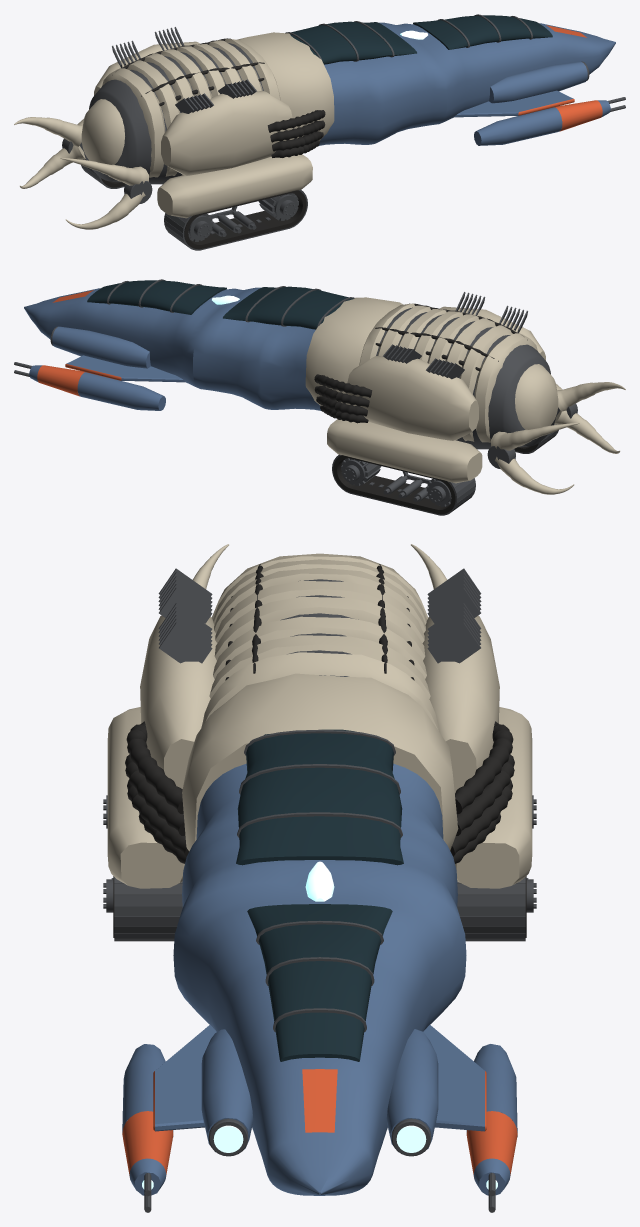
Rendered from helix_blueprint_LOD1.glb.
3 views of the same model, one above another, from view 1: azimuth 30°, elevation 25°; view 2: azimuth 150°, elevation 25°; view 3: azimuth 270°, elevation 25° (orthographic). The views are drawn at different scales.
Visible parts, largest first — view 1: Body_Hull.001, Body_Shoulder_-1.001, Body_Fender_-1.001, Body_Collar.001, Body_Hull.001_m2, Glass_CanopyAft.001, Glass_CanopyFwd.001, Detail_Hardware, Body_Nacelle_-1.001, Body_Maw.001, Body_Pod_-1.001, Prop_Track_Belt_-1.001 (+24 smaller); view 2: Body_Hull.001, Body_Shoulder_+1.001, Body_Fender_+1.001, Body_Collar.001, Body_Hull.001_m2, Glass_CanopyAft.001, Glass_CanopyFwd.001, Detail_Hardware, Body_Nacelle_+1.001, Body_Maw.001, Body_Pod_+1.001, Prop_Track_Belt_+1.001 (+24 smaller); view 3: Body_Hull.001, Glass_CanopyAft.001, Body_Collar.001, Glass_CanopyFwd.001, Detail_Hardware, Body_Shoulder_+1.001, Body_Shoulder_-1.001, Body_Fender_+1.001, Body_Fender_-1.001, Body_Plate_7.001, Body_Wing_+1.001, Body_Wing_-1.001 (+23 smaller).
Part boxes in pixels (x1=…): Body_Hull.001: x1=319, y1=22, x2=615, y2=145; Body_Shoulder_-1.001: x1=161, y1=91, x2=292, y2=175; Body_Fender_-1.001: x1=157, y1=154, x2=312, y2=218; Body_Collar.001: x1=237, y1=32, x2=334, y2=140; Body_Hull.001_m2: x1=84, y1=43, x2=263, y2=184; Glass_CanopyAft.001: x1=290, y1=21, x2=416, y2=64; Glass_CanopyFwd.001: x1=413, y1=15, x2=552, y2=49; Detail_Hardware: x1=62, y1=27, x2=625, y2=203; Body_Nacelle_-1.001: x1=489, y1=61, x2=587, y2=103; Body_Maw.001: x1=81, y1=99, x2=124, y2=173; Body_Pod_-1.001: x1=474, y1=100, x2=610, y2=145; Prop_Track_Belt_-1.001: x1=184, y1=190, x2=306, y2=249; Body_Hull.001: x1=24, y1=287, x2=321, y2=410; Body_Shoulder_+1.001: x1=347, y1=356, x2=478, y2=440; Body_Fender_+1.001: x1=327, y1=419, x2=482, y2=483; Body_Collar.001: x1=305, y1=297, x2=402, y2=405; Body_Hull.001_m2: x1=376, y1=307, x2=555, y2=449; Glass_CanopyAft.001: x1=223, y1=286, x2=353, y2=329; Glass_CanopyFwd.001: x1=87, y1=280, x2=226, y2=314; Detail_Hardware: x1=14, y1=292, x2=577, y2=468; Body_Nacelle_+1.001: x1=52, y1=326, x2=150, y2=368; Body_Maw.001: x1=515, y1=364, x2=558, y2=438; Body_Pod_+1.001: x1=29, y1=365, x2=165, y2=410; Prop_Track_Belt_+1.001: x1=333, y1=455, x2=455, y2=514; Body_Hull.001: x1=173, y1=763, x2=466, y2=1195; Glass_CanopyAft.001: x1=236, y1=729, x2=403, y2=865; Body_Collar.001: x1=182, y1=673, x2=458, y2=851; Glass_CanopyFwd.001: x1=247, y1=904, x2=392, y2=1061; Detail_Hardware: x1=144, y1=568, x2=495, y2=1212; Body_Shoulder_+1.001: x1=422, y1=615, x2=499, y2=793; Body_Shoulder_-1.001: x1=140, y1=615, x2=217, y2=788; Body_Fender_+1.001: x1=455, y1=707, x2=532, y2=888; Body_Fender_-1.001: x1=107, y1=707, x2=184, y2=888; Body_Plate_7.001: x1=201, y1=652, x2=439, y2=731; Body_Wing_+1.001: x1=423, y1=1025, x2=484, y2=1131; Body_Wing_-1.001: x1=155, y1=1025, x2=216, y2=1131.
Bounding box in the file's own units: 4.97 × 1.22 × 1.61.
